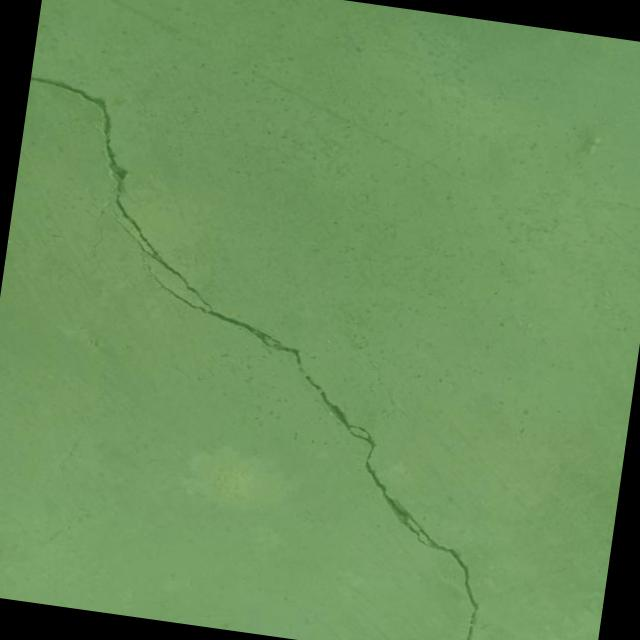crack: (0, 74, 569, 640)
